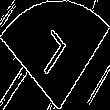L_SW: (35, 26, 75, 84)
